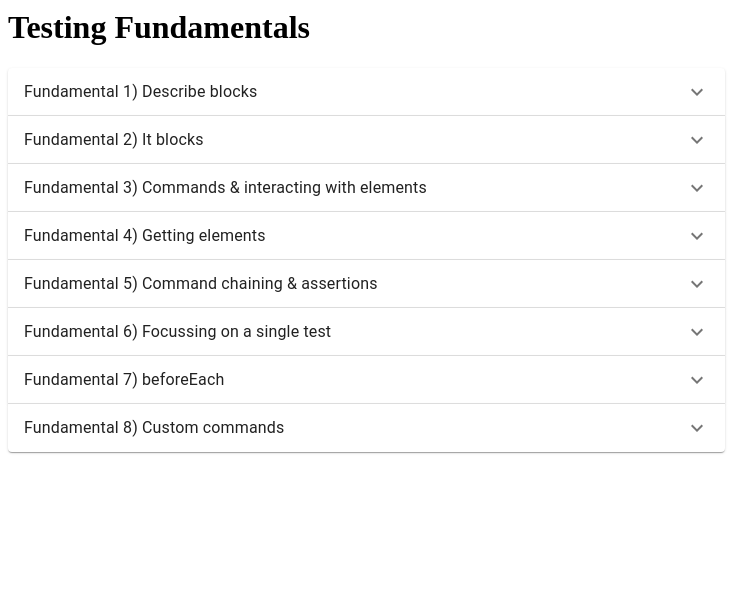
it: Fundamental Test › Accordions work perfectly
Check: the text "Within your describe block, you will also have it blocks" is not shown
Click the element showing "Fundamental 2) It blocks": (367, 140) [8,116,725,164]
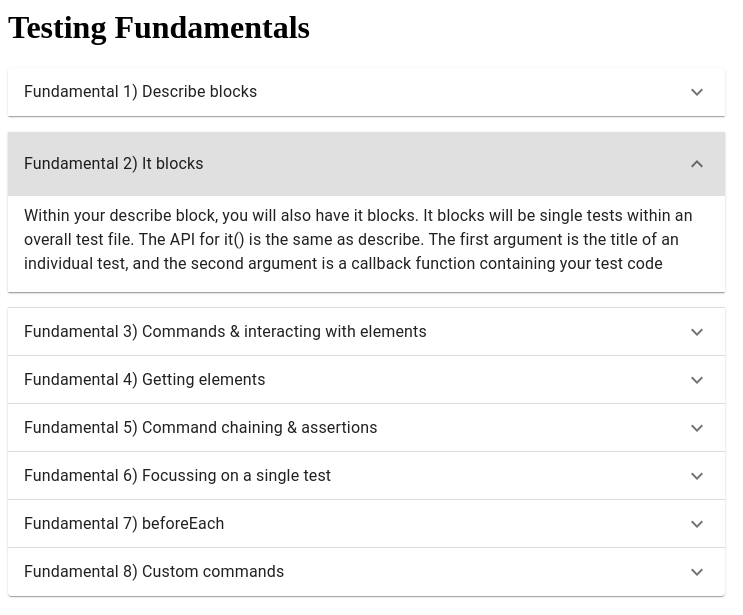
Check: the text "Within your describe block, you will also have it blocks" is shown, box [24,204,709,276]
Click the button "Fundamental 2) It blocks": (114, 163) [8,132,725,196]
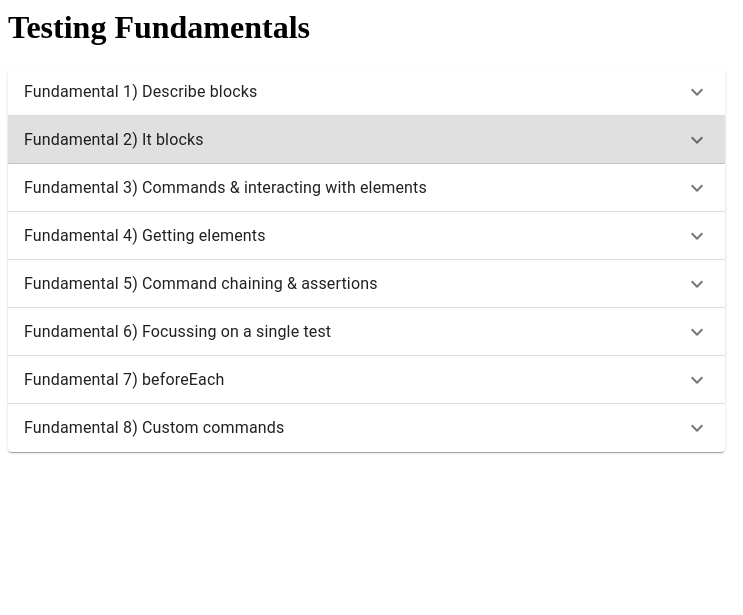
Check: the text "Within your describe block, you will also have it blocks" is gone
